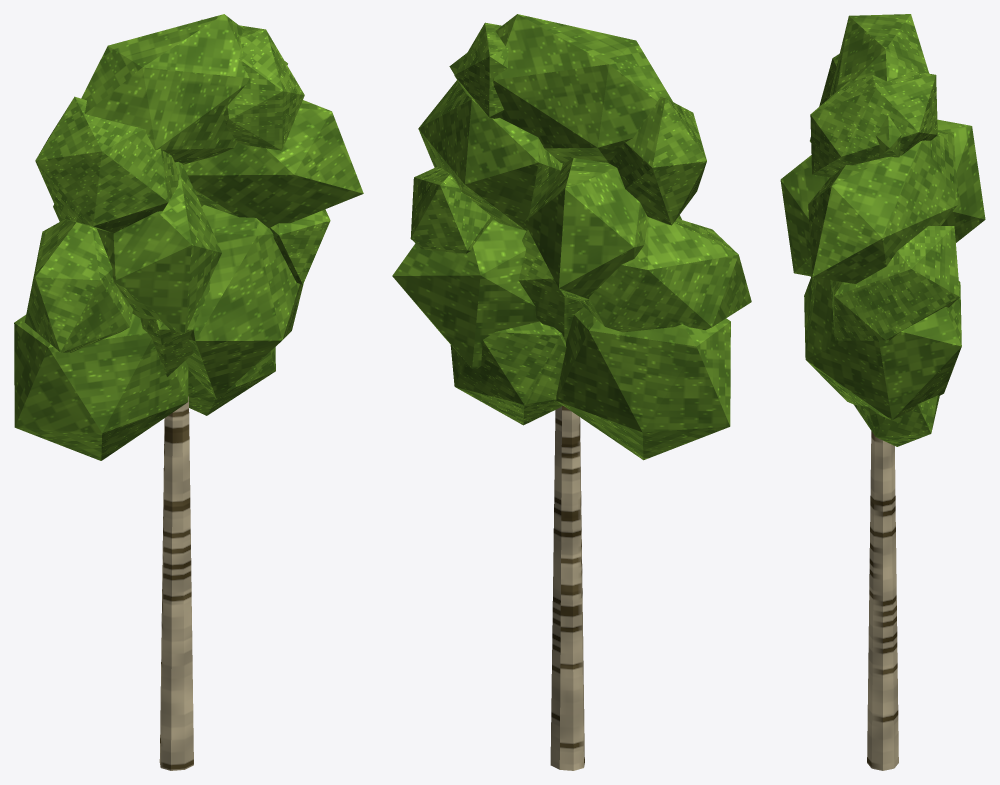
File: nodo-tree-birch-v2-DFoMECIG.glb
The picture shows the model from 3 angles, left to right: view 1: azimuth 30°, elevation 25°; view 2: azimuth 150°, elevation 25°; view 3: azimuth 270°, elevation 25°; orthographic projection.
Visible parts, largest first — view 1: nodo-tree-birch-v2-realista; view 2: nodo-tree-birch-v2-realista; view 3: nodo-tree-birch-v2-realista.
Boxes of the visible parts, bbox=[...] form: nodo-tree-birch-v2-realista: bbox=[14, 14, 363, 770]; nodo-tree-birch-v2-realista: bbox=[392, 14, 751, 770]; nodo-tree-birch-v2-realista: bbox=[780, 14, 985, 770].
Bounding box in the file's own units: 17.4 × 39.06 × 9.84.
Materials: 1 (1 with a texture image).
